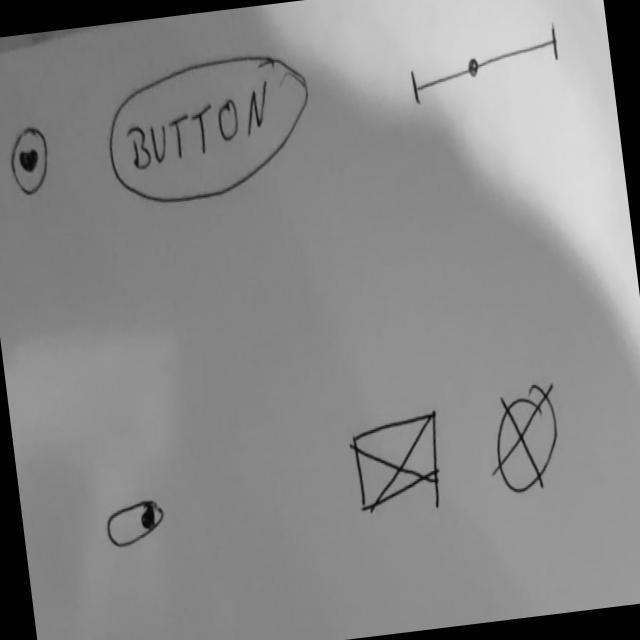button: (100, 45, 324, 213)
icon-button: (5, 121, 58, 201)
image: (348, 406, 450, 517), (482, 381, 571, 500)
slider: (404, 16, 567, 110)
toggle: (102, 496, 170, 554)
